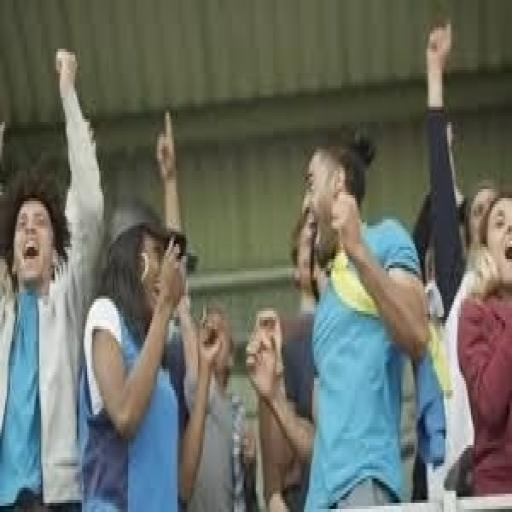clapping: (454, 186, 510, 497)
